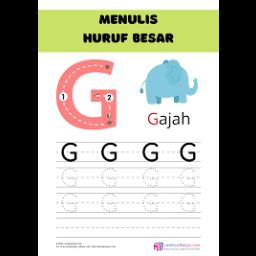g: (54, 54, 120, 136), (50, 140, 84, 162), (96, 141, 124, 167), (135, 140, 161, 164), (175, 140, 203, 162), (144, 108, 158, 130)
